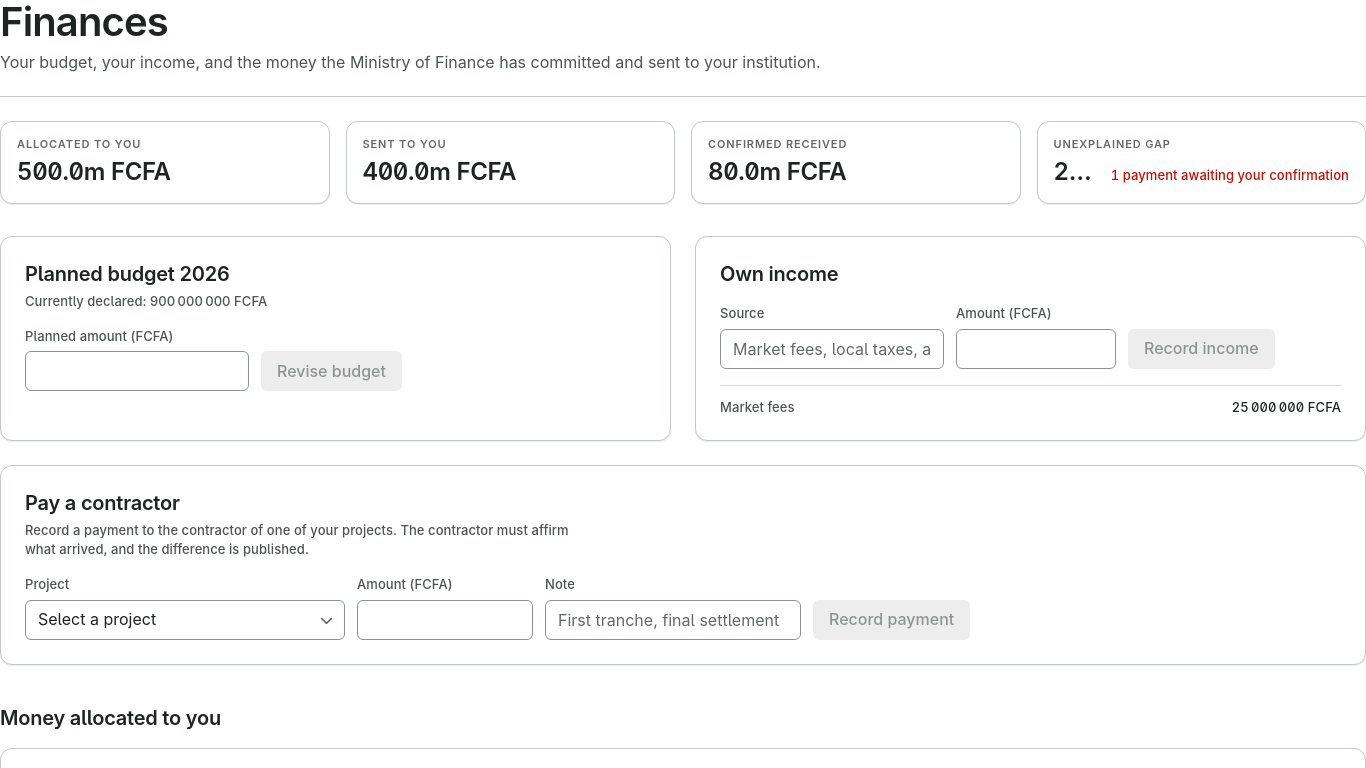
it: DeskFinance › routes a budget declaration through the second-factor modal
The image size is (1366, 768).
Type "1000" into the number field labelled "Planned amount (FCFA)". click: (137, 372)
box: [25,352,249,392]
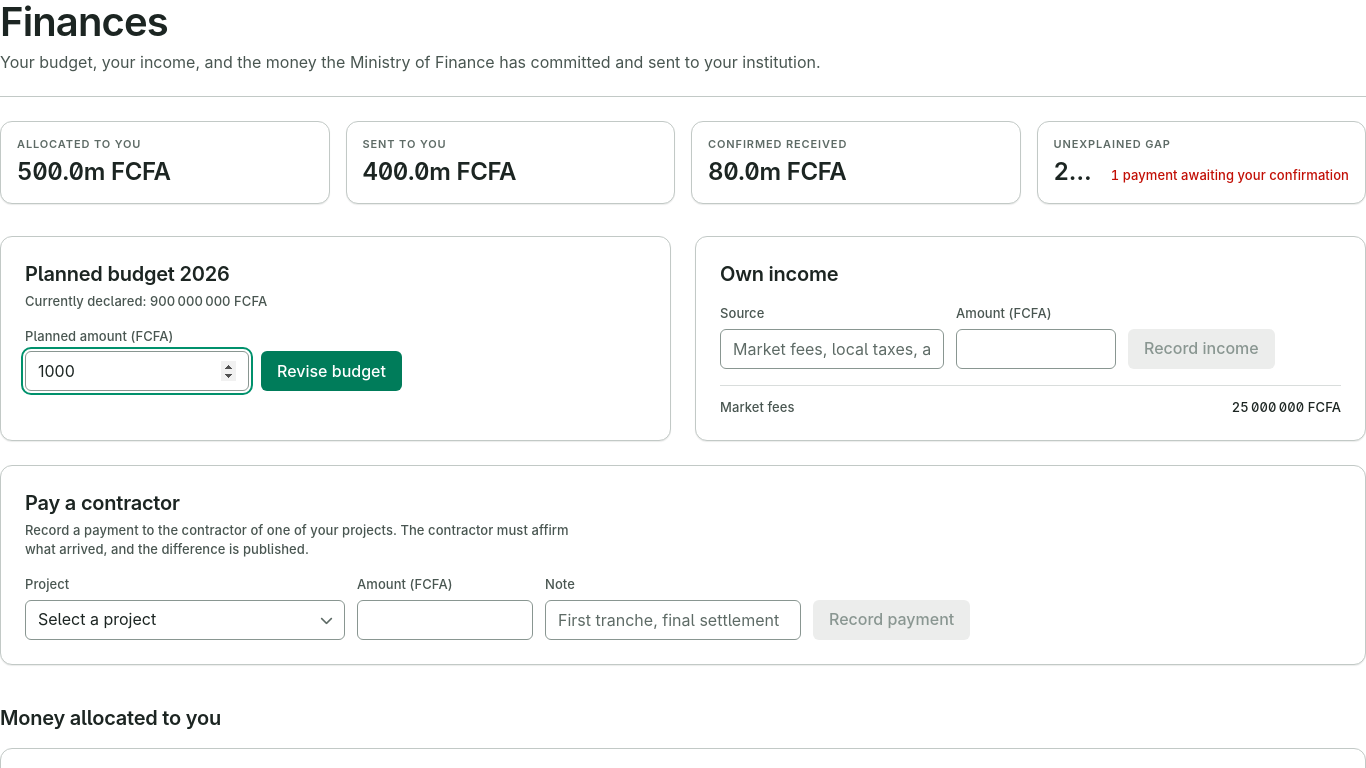
Click the button "Revise budget". click: (331, 372)
box: [261,352,402,392]
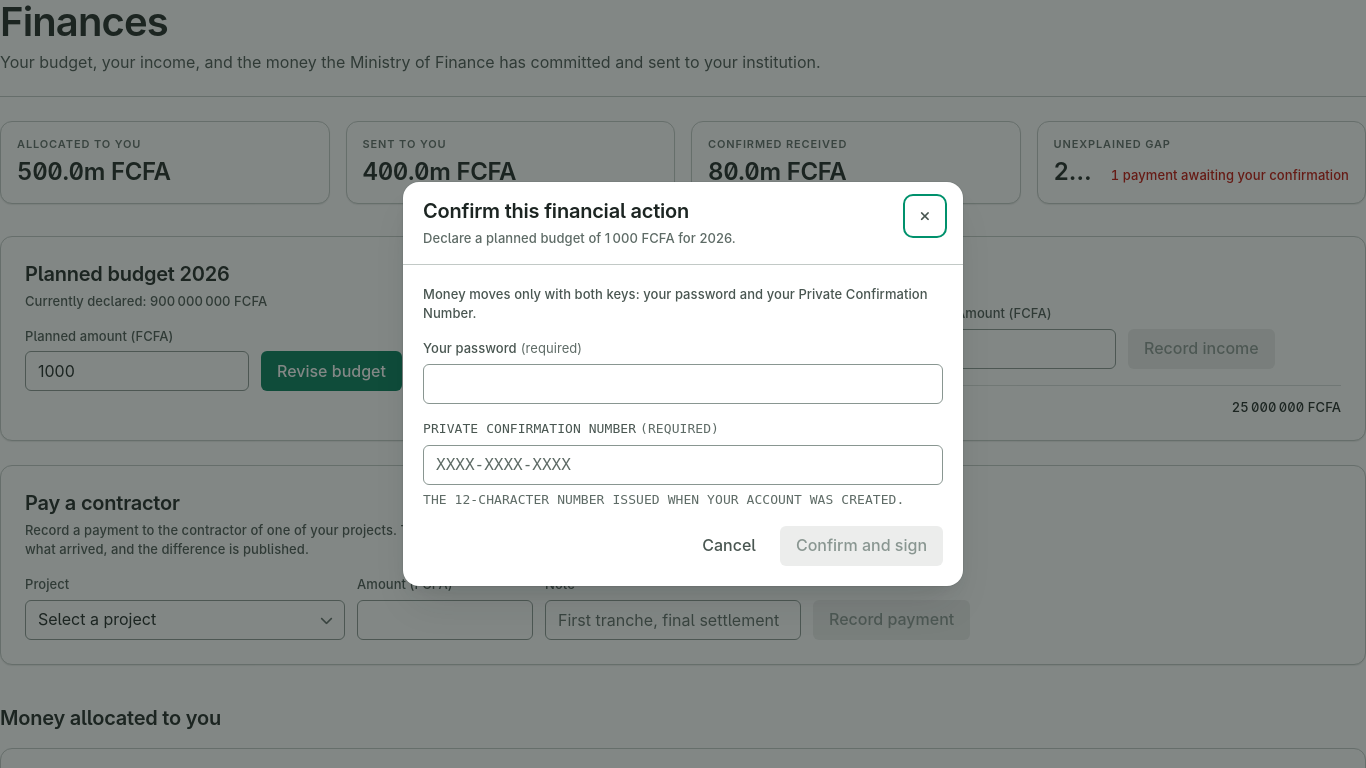
Expected: the password field labelled "Your password(required)" is shown, [423,364,943,404]
Expected: the field labelled "Private Confirmation Number(required)" is shown, [423,445,943,485]
